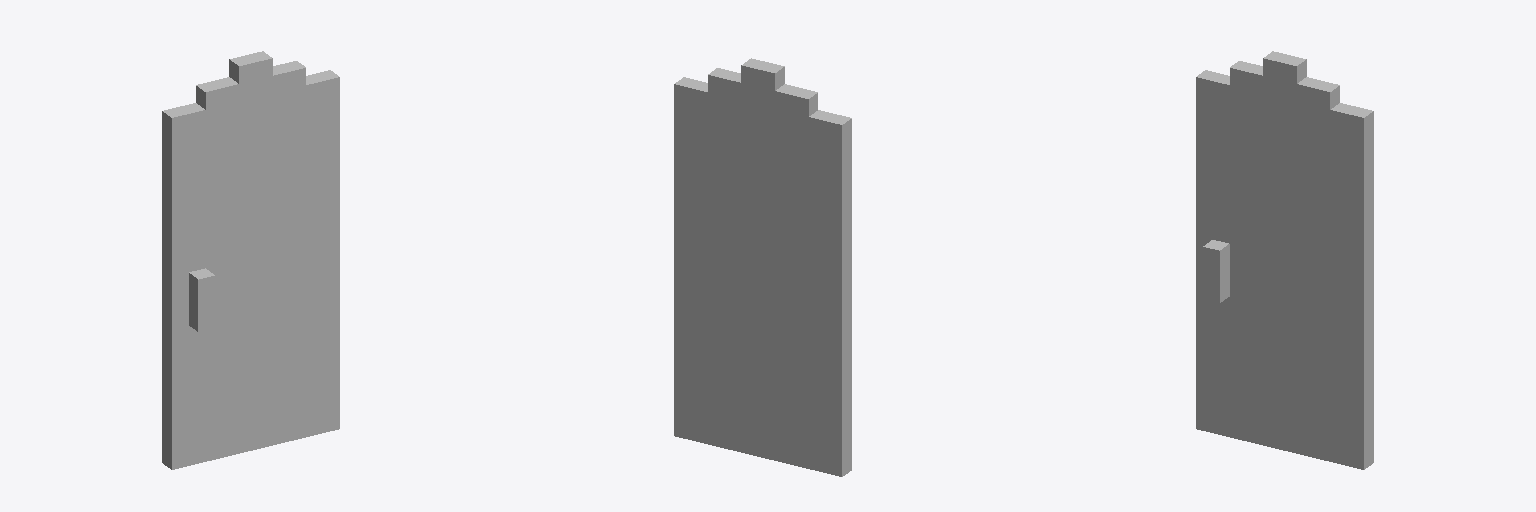
The model's file is Door_Wooden.obj.
3 renders of one model, left to right at view 1: azimuth 30°, elevation 25°; view 2: azimuth 150°, elevation 25°; view 3: azimuth 330°, elevation 25°, orthographic.
Visible parts, largest first — view 1: Door_Wooden; view 2: Door_Wooden; view 3: Door_Wooden.
Part boxes in pixels (left/top/right/bottom): Door_Wooden: left=162, top=51, right=339, bottom=469; Door_Wooden: left=674, top=58, right=851, bottom=476; Door_Wooden: left=1196, top=51, right=1373, bottom=469.
Size of the model in its own units: 1 by 2.2 by 0.2.